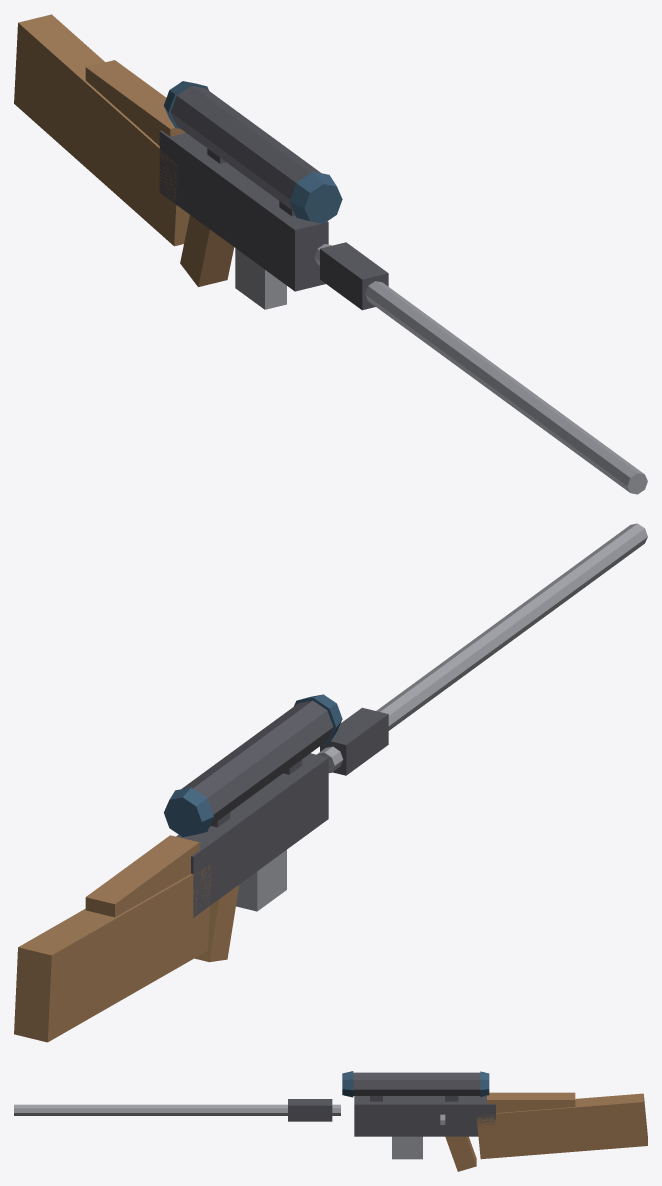
File: weapon_sniper.glb
The picture shows the model from 3 angles, top to bottom: view 1: azimuth 30°, elevation 25°; view 2: azimuth 150°, elevation 25°; view 3: azimuth 270°, elevation 25°; orthographic projection. The views are drawn at different scales.
Visible parts, largest first — view 1: barrel; view 2: barrel; view 3: barrel.
Boxes of the visible parts, x1,y1,x2,y2 form: barrel: [14, 14, 647, 494]; barrel: [14, 523, 647, 1042]; barrel: [14, 1071, 647, 1171].
Size of the model in its own units: 0.087 by 0.2415 by 1.43.
